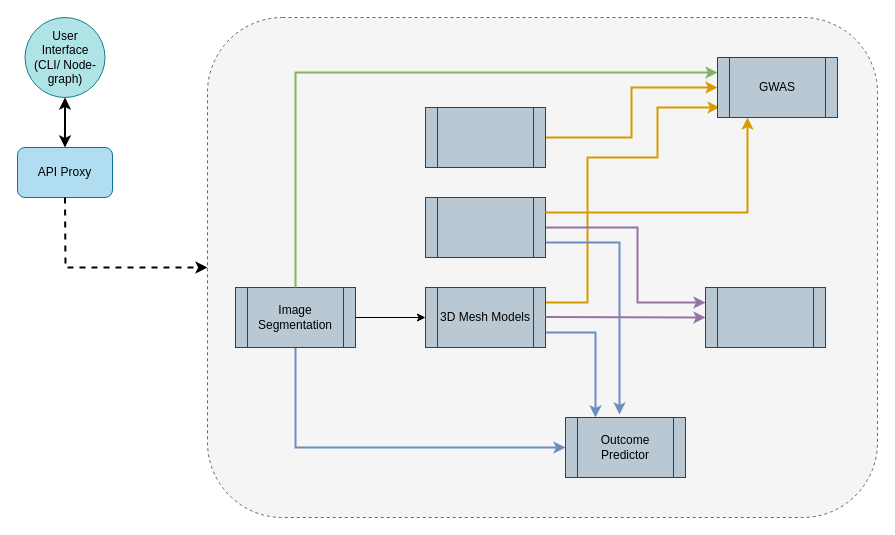
The diagram is 895 pixels wide and 535 high, and some of its shapes have lost their labels. The centre of each missing label's shape, as x and y in pixels:
Genotypes: pixel 485 137
UKB Co-variates on RAP: pixel 485 227
UMAP: pixel 765 317
